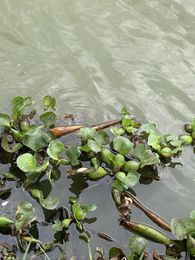water_hyacinth: (1, 90, 195, 259)
